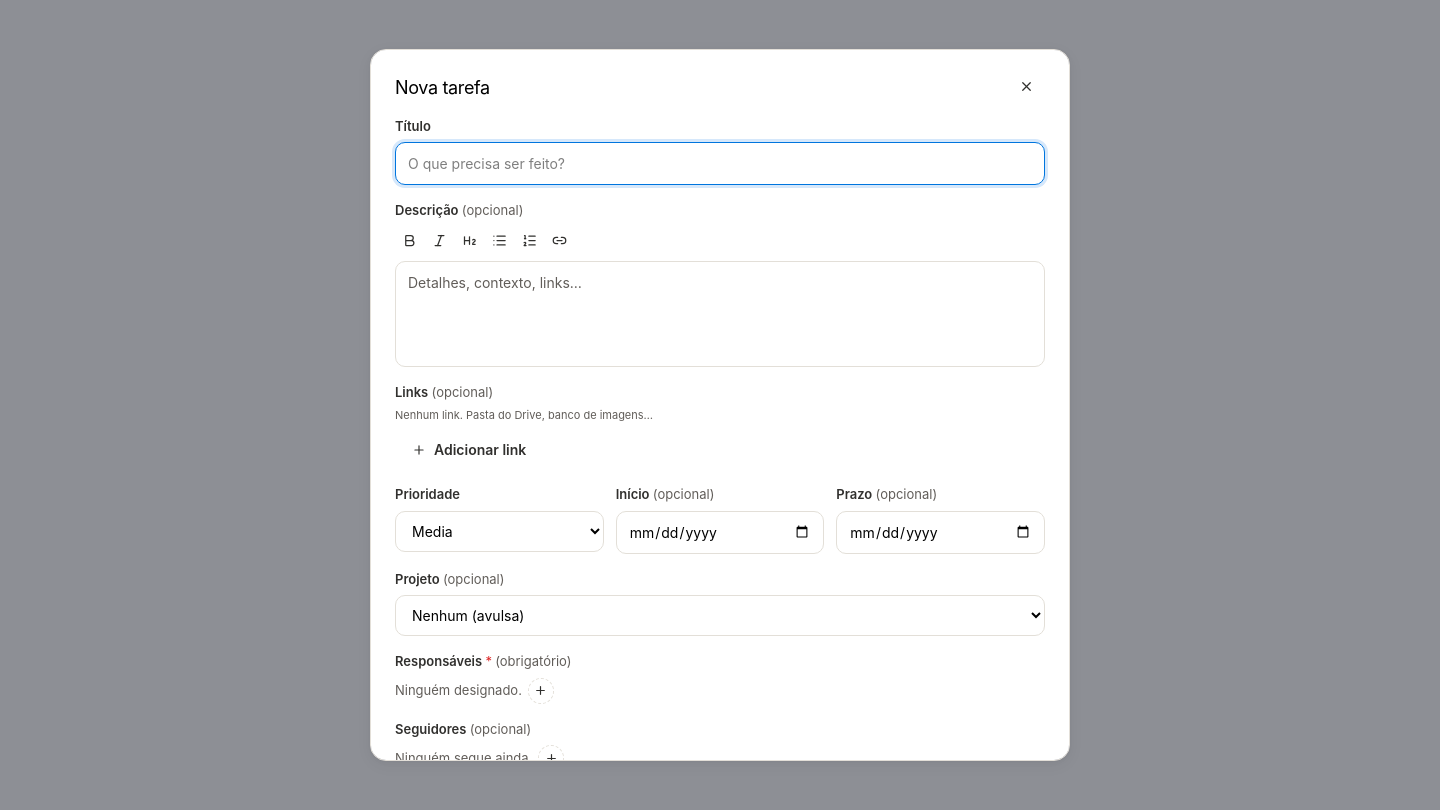
Test case: TaskModal -- selecionar todos e limpar (criação) › os dois botões existem na criação, e o de todos diz QUANTOS
Click the button named "Designar responsável" at (541, 691), box x1=528 y1=678 x2=554 y2=704
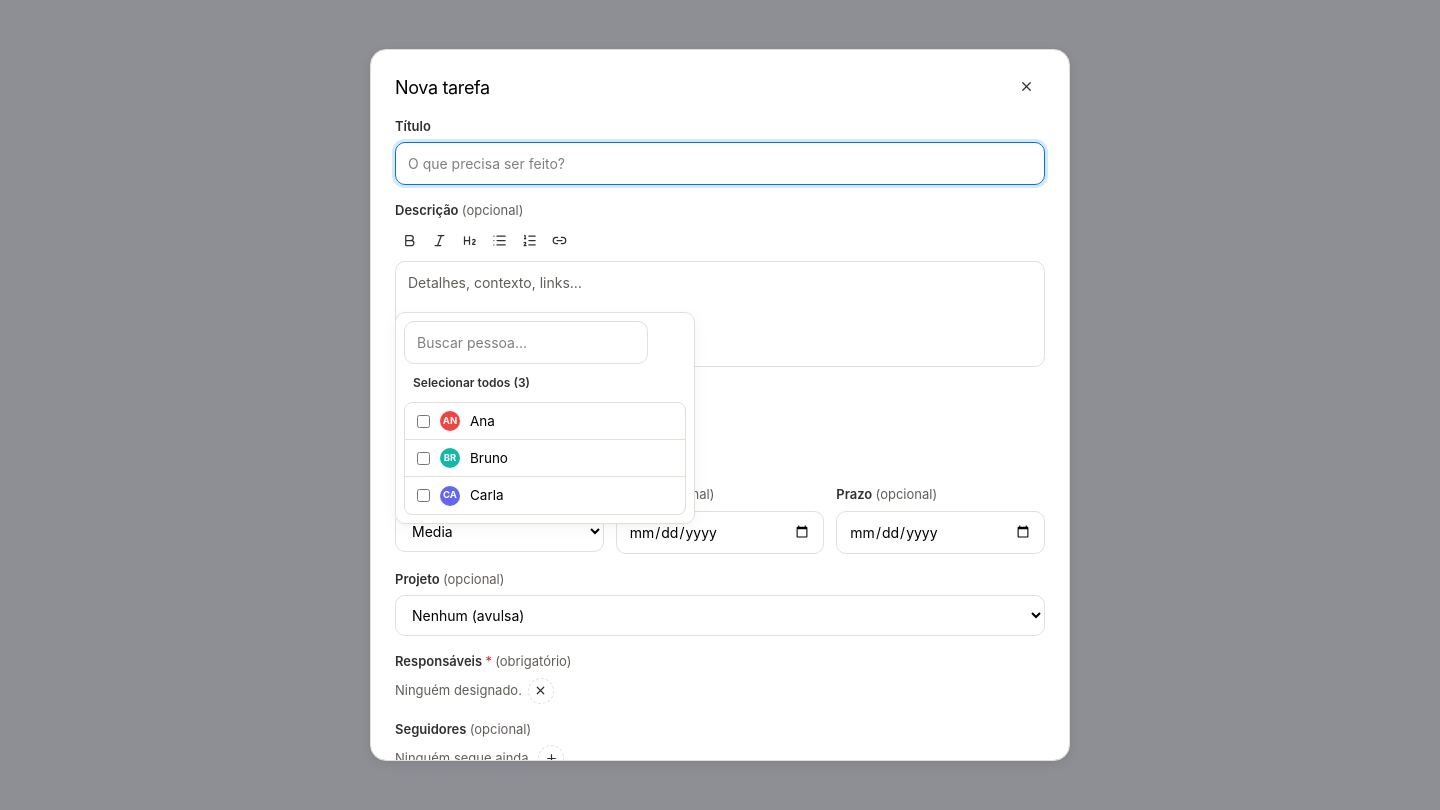
Expected: the button "Selecionar todos (3)" is shown, x1=404 y1=370 x2=539 y2=396
